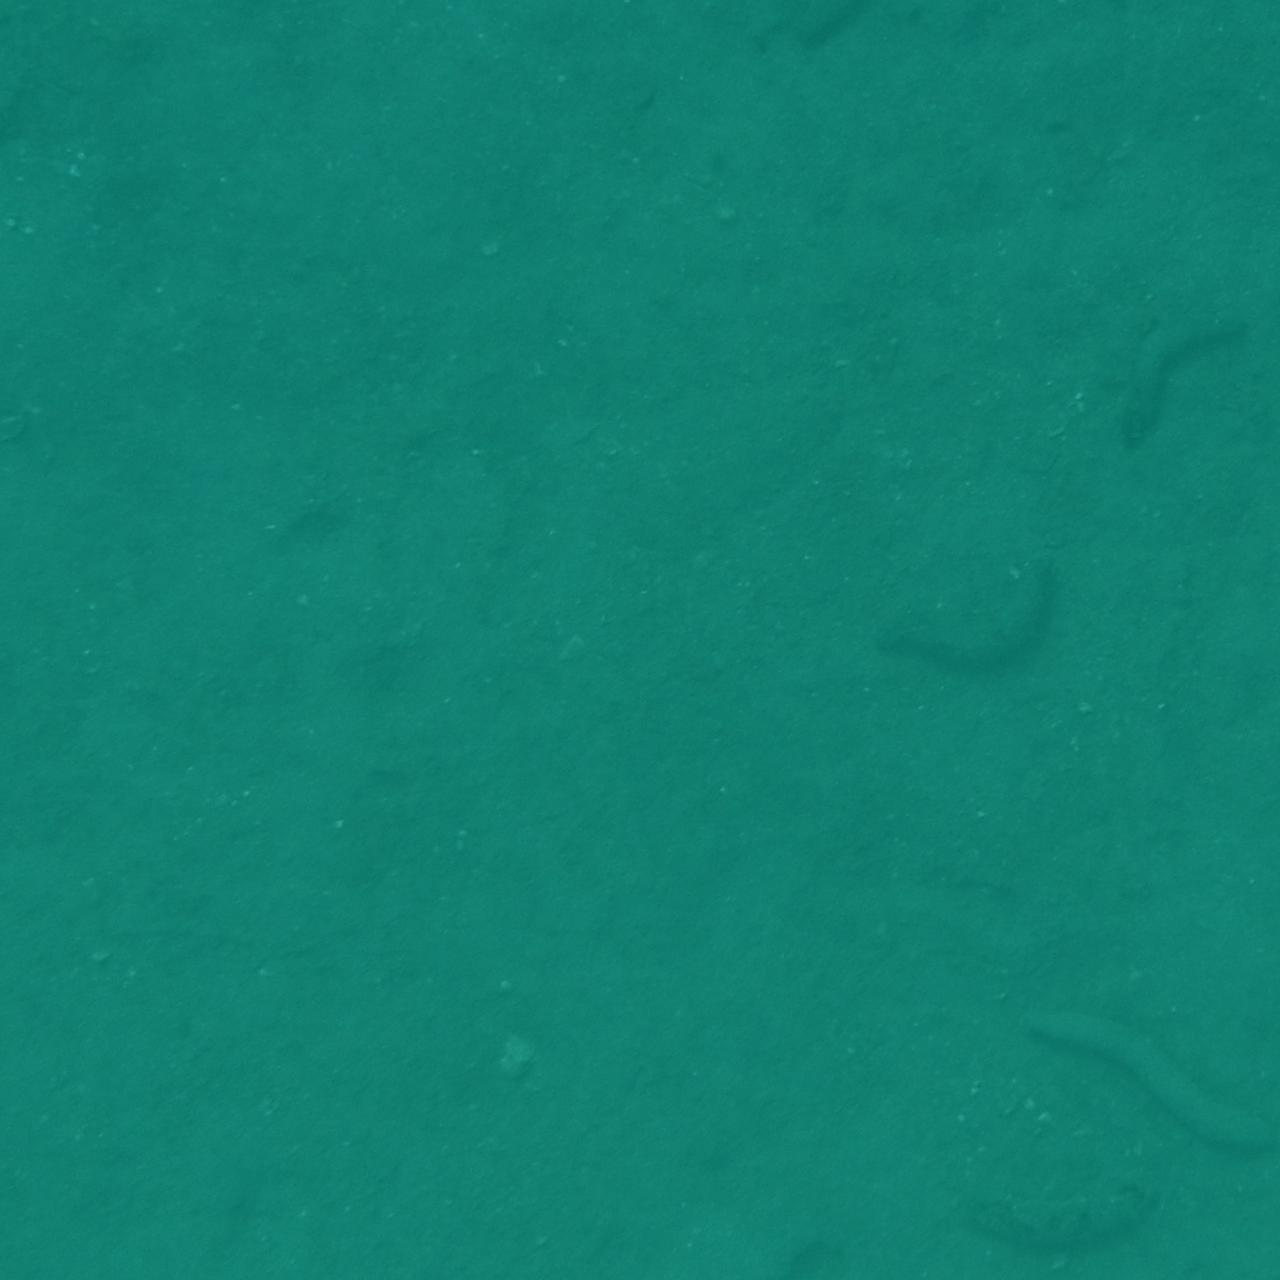Holothuria tubulosa: (1005, 992, 1280, 1160), (888, 542, 1087, 667), (1111, 302, 1242, 491), (924, 1160, 1175, 1255), (1115, 877, 1280, 1005), (298, 1220, 628, 1280), (0, 131, 147, 266), (341, 0, 567, 83), (0, 897, 125, 1047), (893, 1150, 1024, 1280), (0, 445, 47, 801), (775, 0, 907, 124), (1212, 50, 1280, 260), (0, 0, 156, 89), (0, 0, 77, 166), (0, 496, 144, 580), (1189, 0, 1280, 132), (753, 1155, 846, 1280), (1160, 860, 1280, 958), (0, 1206, 156, 1280), (1210, 0, 1280, 159), (1132, 1205, 1280, 1280), (134, 1177, 237, 1280), (0, 0, 132, 80), (1205, 1148, 1280, 1280), (0, 1191, 105, 1280), (0, 1198, 75, 1280)
